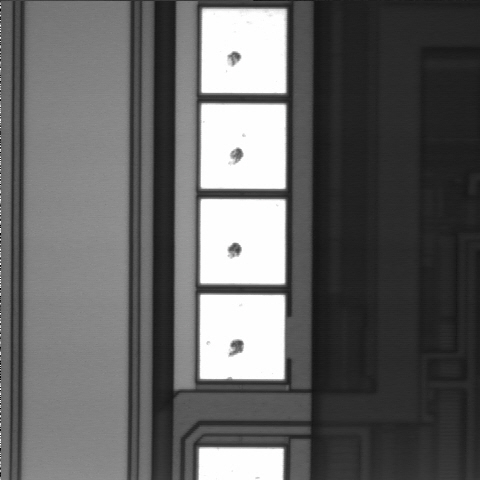pad: (201, 104, 286, 189), (200, 199, 285, 284), (201, 9, 286, 93), (200, 295, 285, 379)
